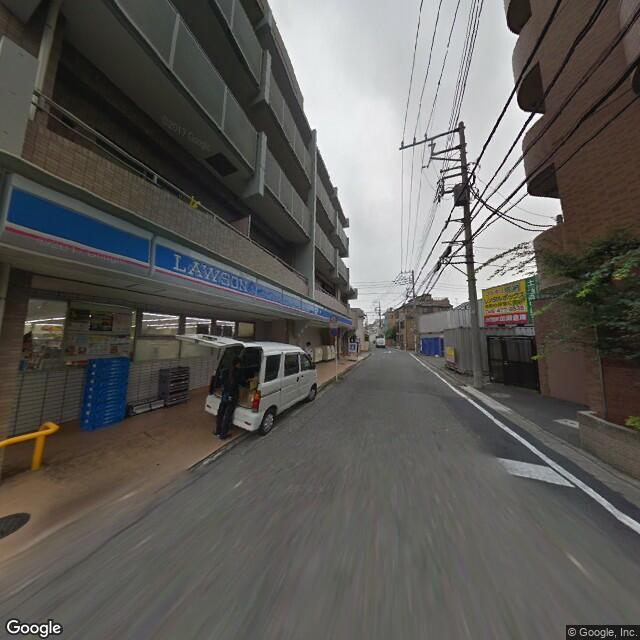lawson: (4, 174, 354, 327), (348, 339, 358, 354)
